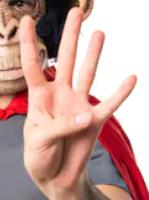right: (14, 5, 138, 186)
